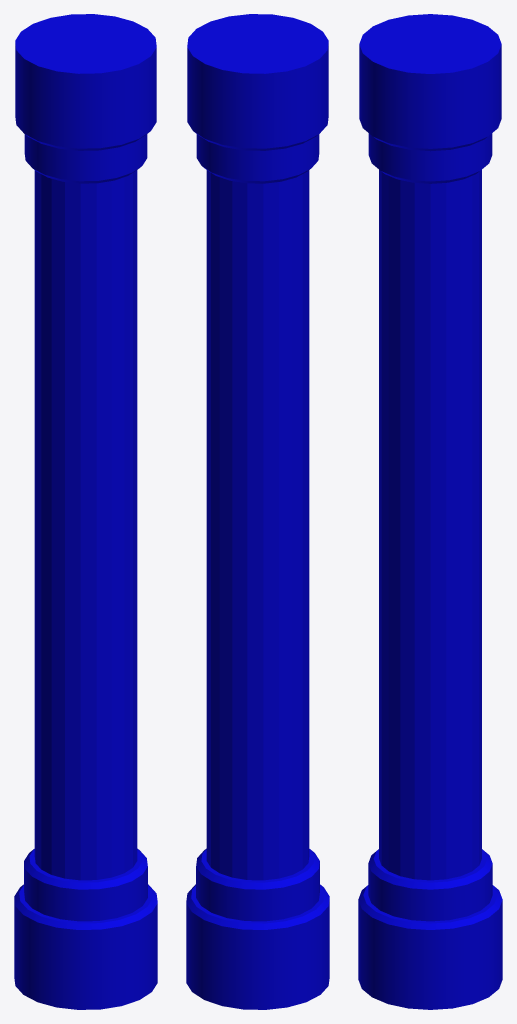
The model's file is Pillar.fbx.
3 renders of one model, left to right at view 1: azimuth 30°, elevation 25°; view 2: azimuth 150°, elevation 25°; view 3: azimuth 270°, elevation 25°, orthographic.
Visible parts, largest first — view 1: Pole1; view 2: Pole1; view 3: Pole1.
Boxes of the visible parts, x1=… form: Pole1: x1=14, y1=14, x2=157, y2=1009; Pole1: x1=186, y1=14, x2=329, y2=1009; Pole1: x1=358, y1=14, x2=502, y2=1009.
Size of the model in its own units: 0.8899 by 6.36 by 0.8899.
